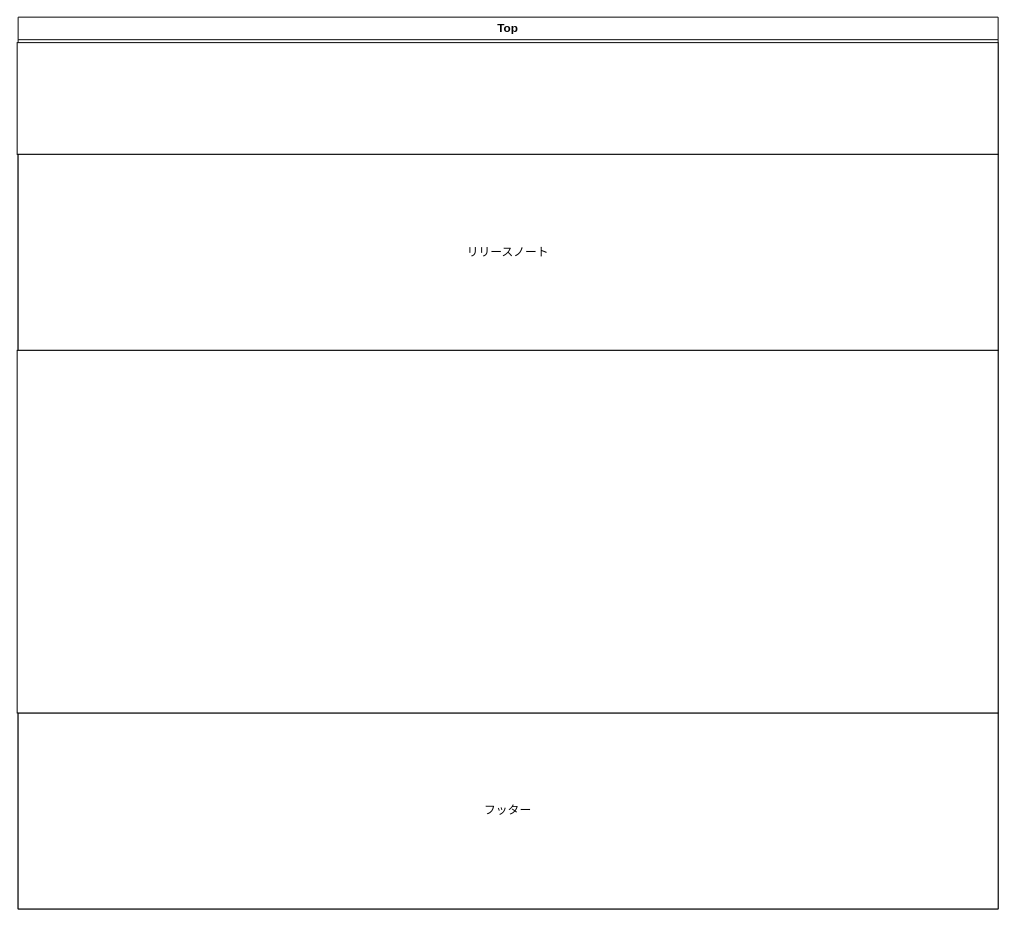
The diagram is 1015 pixels wide and 926 high, and some of its shapes have lost their labels. The centre of each missing label's shape, as x and y in pixels:
"Usage" belongs at pixel 507 531.
"ヘッダー" belongs at pixel 507 98.
